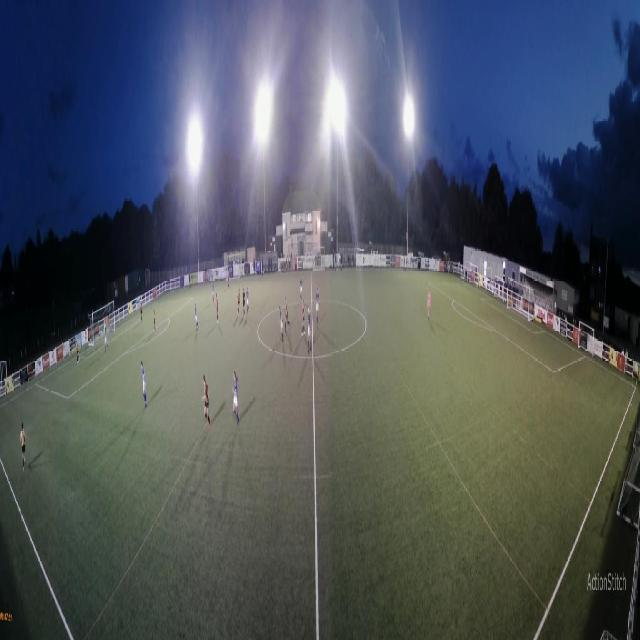ball: (78, 359, 80, 364)
player: (202, 373, 211, 429), (232, 370, 240, 426), (20, 422, 27, 471), (141, 360, 147, 410), (284, 298, 290, 334), (279, 305, 284, 343), (301, 297, 305, 336), (194, 302, 199, 330), (104, 328, 109, 354), (427, 289, 431, 321), (215, 293, 219, 325), (316, 287, 319, 329), (236, 286, 240, 317), (242, 288, 246, 317), (76, 340, 80, 364), (246, 287, 249, 318), (300, 276, 303, 303), (153, 310, 156, 332), (104, 321, 107, 340), (212, 280, 214, 304), (141, 303, 143, 325), (227, 269, 229, 289)
